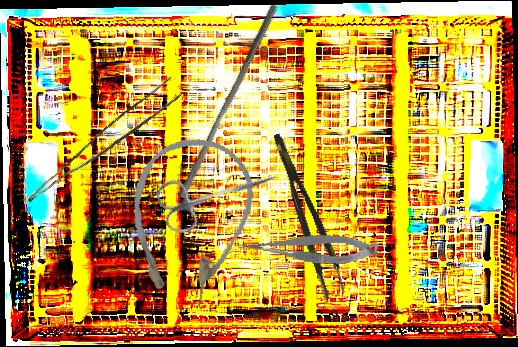Cannula: (115, 129, 263, 315)
Iris Scissors: (153, 148, 285, 238)
Micro Scissor: (237, 222, 380, 272)
Pusher: (176, 0, 279, 202)
Tissue Forceps: (26, 72, 185, 219), (270, 128, 349, 301)
